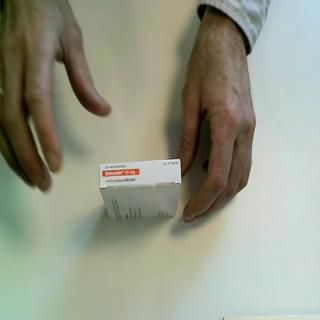dolcontin10mg: (99, 158, 184, 223)
